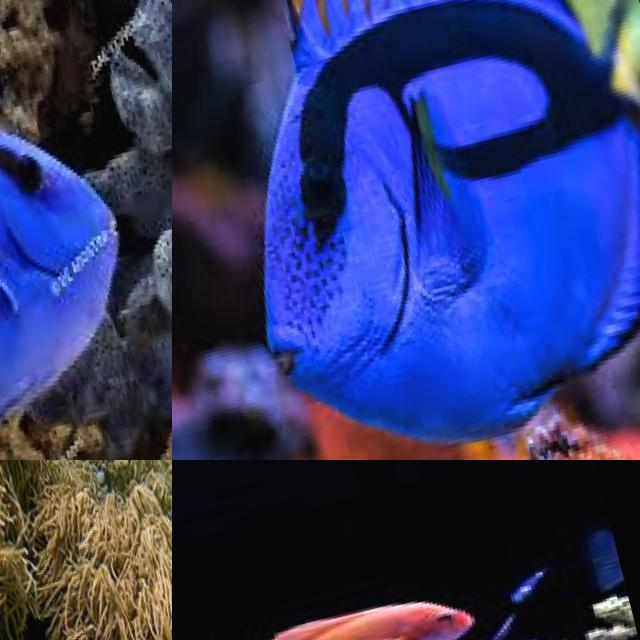BlueTang: (172, 0, 640, 460), (0, 10, 172, 460), (0, 585, 172, 640)
